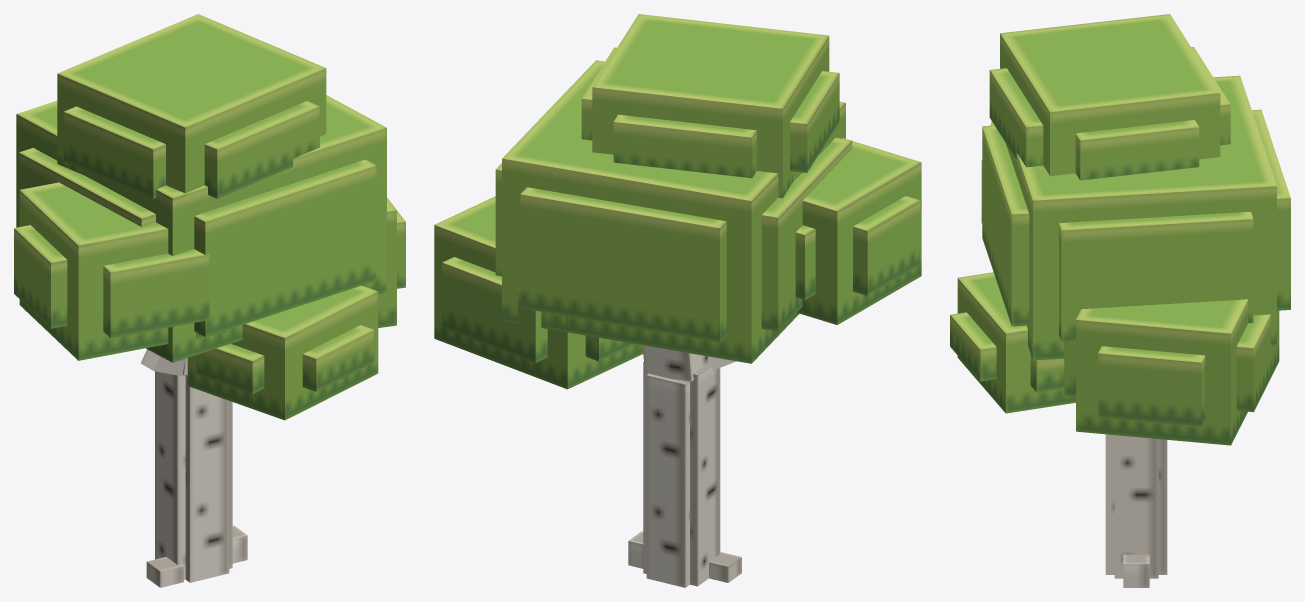
File: EP_BirchTreeClassic.fbx
The picture shows the model from 3 angles, left to right: view 1: azimuth 30°, elevation 25°; view 2: azimuth 150°, elevation 25°; view 3: azimuth 270°, elevation 25°; orthographic projection. The views are drawn at different scales.
Visible parts, largest first — view 1: birch_tree_classic; view 2: birch_tree_classic; view 3: birch_tree_classic.
Boxes of the visible parts, left/top/right/bottom form: birch_tree_classic: left=14, top=14, right=405, bottom=587; birch_tree_classic: left=434, top=14, right=921, bottom=587; birch_tree_classic: left=950, top=14, right=1290, bottom=587.
Bounding box in the file's own units: 322 × 388 × 242.
